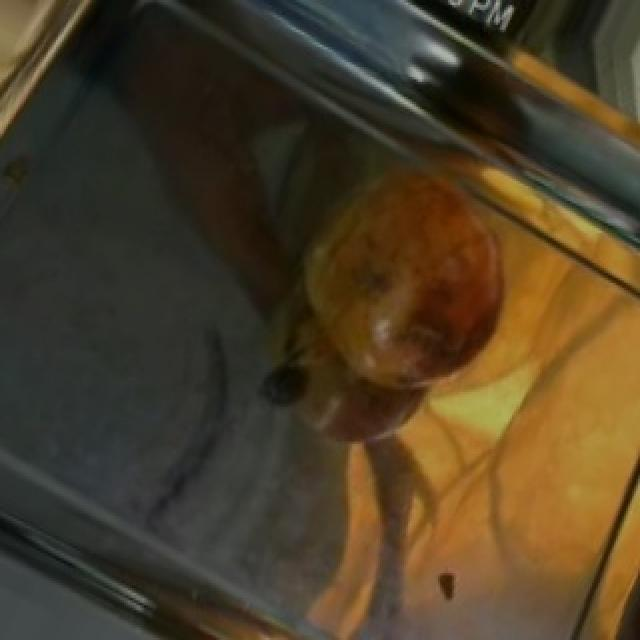fruit: (282, 156, 540, 427)
